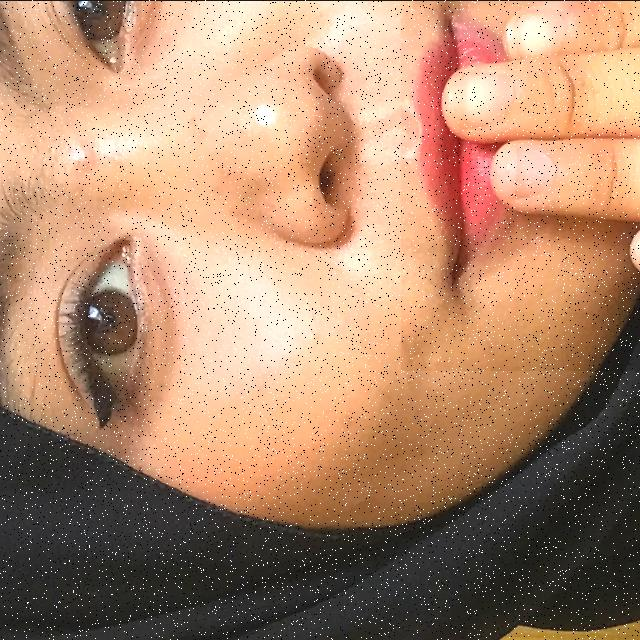ganteng: (401, 0, 640, 370)
